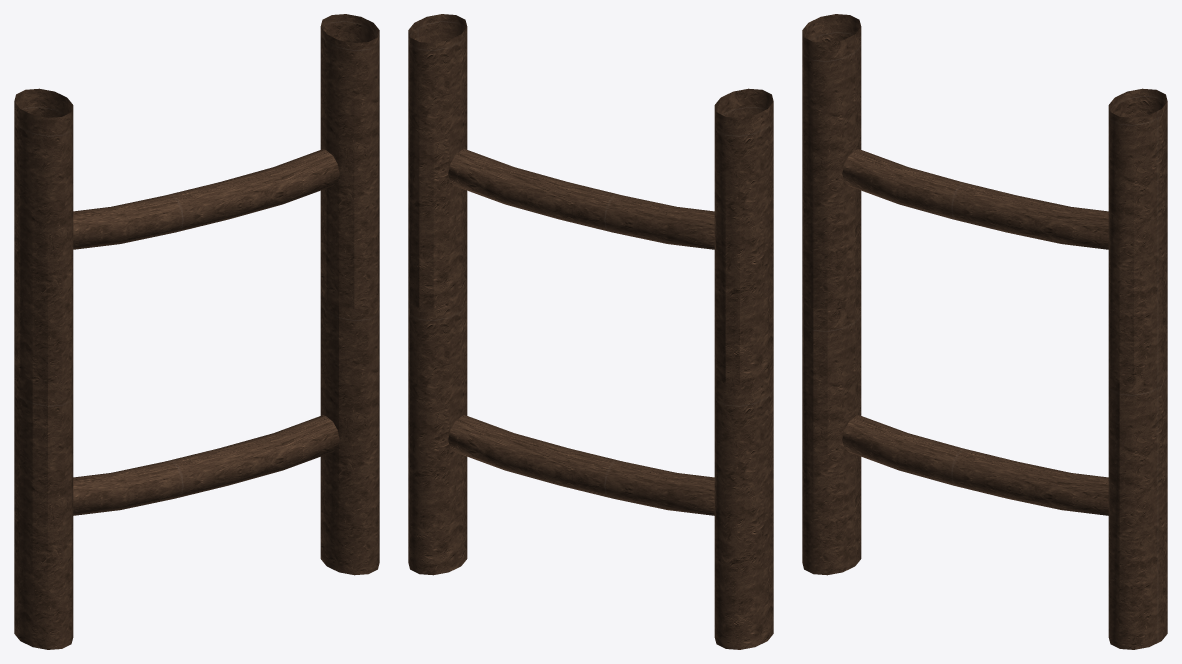
Rendered from Ladder_2m.fbx.
The picture shows the model from 3 angles, left to right: view 1: azimuth 30°, elevation 25°; view 2: azimuth 150°, elevation 25°; view 3: azimuth 330°, elevation 25°; orthographic projection.
Parts seen in each view (by area): view 1: Ladder_2m; view 2: Ladder_2m; view 3: Ladder_2m.
Part boxes in pixels (left/top/right/bottom): Ladder_2m: left=14, top=14, right=379, bottom=649; Ladder_2m: left=408, top=14, right=773, bottom=649; Ladder_2m: left=802, top=14, right=1167, bottom=649.
Size of the model in its own units: 139 by 200 by 25.14.
Materials: 1 (1 with a texture image).
